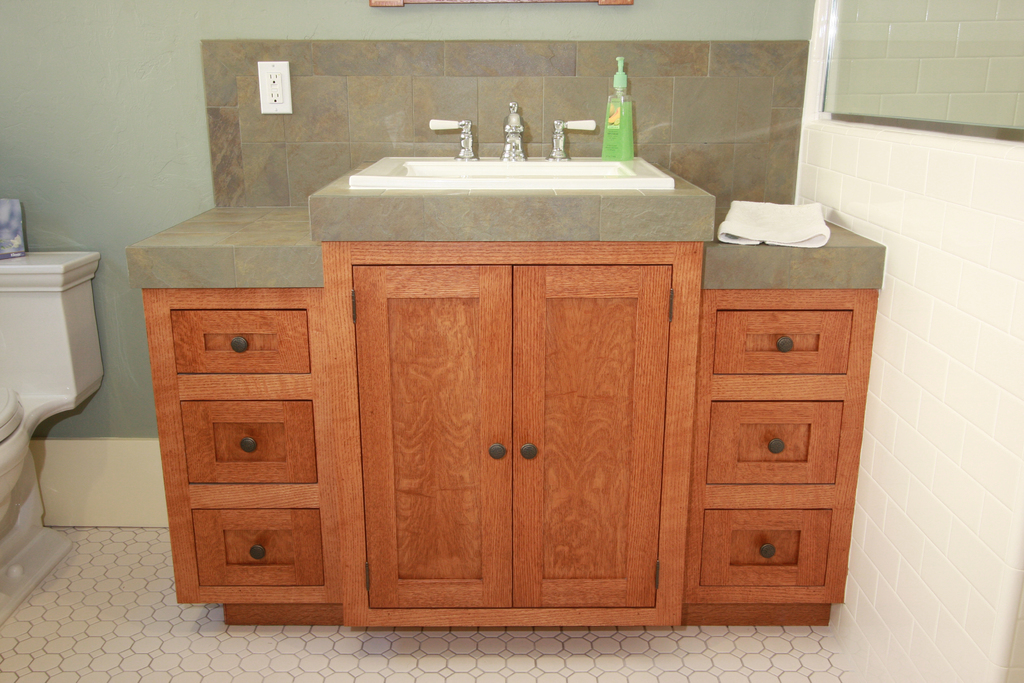cabinet door: (511, 263, 662, 606), (358, 267, 510, 606), (183, 393, 316, 483), (174, 306, 318, 378), (193, 510, 323, 589), (711, 307, 857, 376), (706, 504, 830, 585), (716, 401, 835, 482)
handle: (519, 434, 542, 471), (771, 330, 798, 359), (228, 330, 254, 359), (766, 428, 788, 462), (755, 530, 778, 562), (486, 437, 508, 469), (250, 536, 269, 571), (238, 433, 262, 456)
